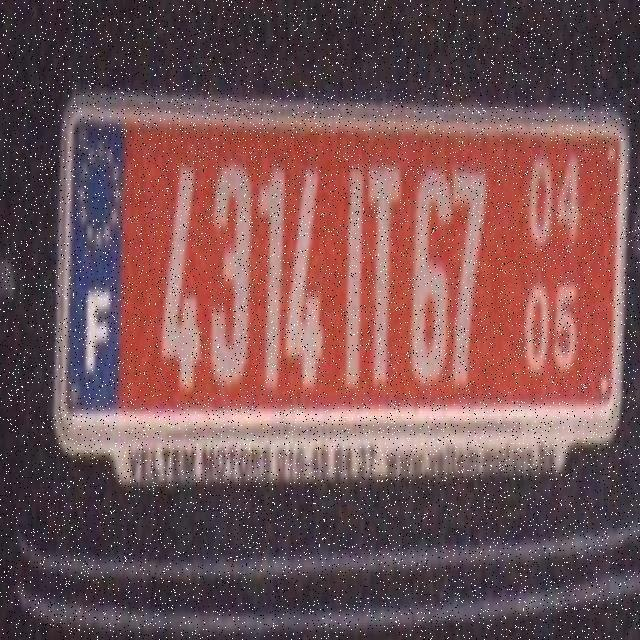License Plate: (48, 51, 640, 506)
